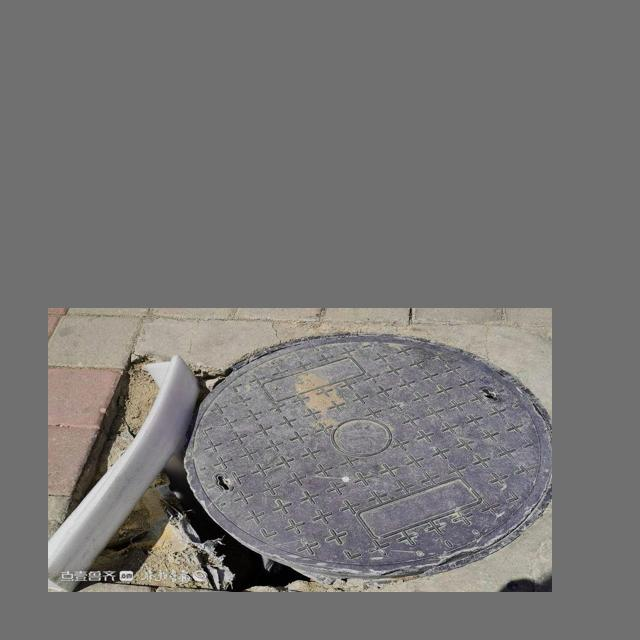circle: (88, 334, 544, 584)
